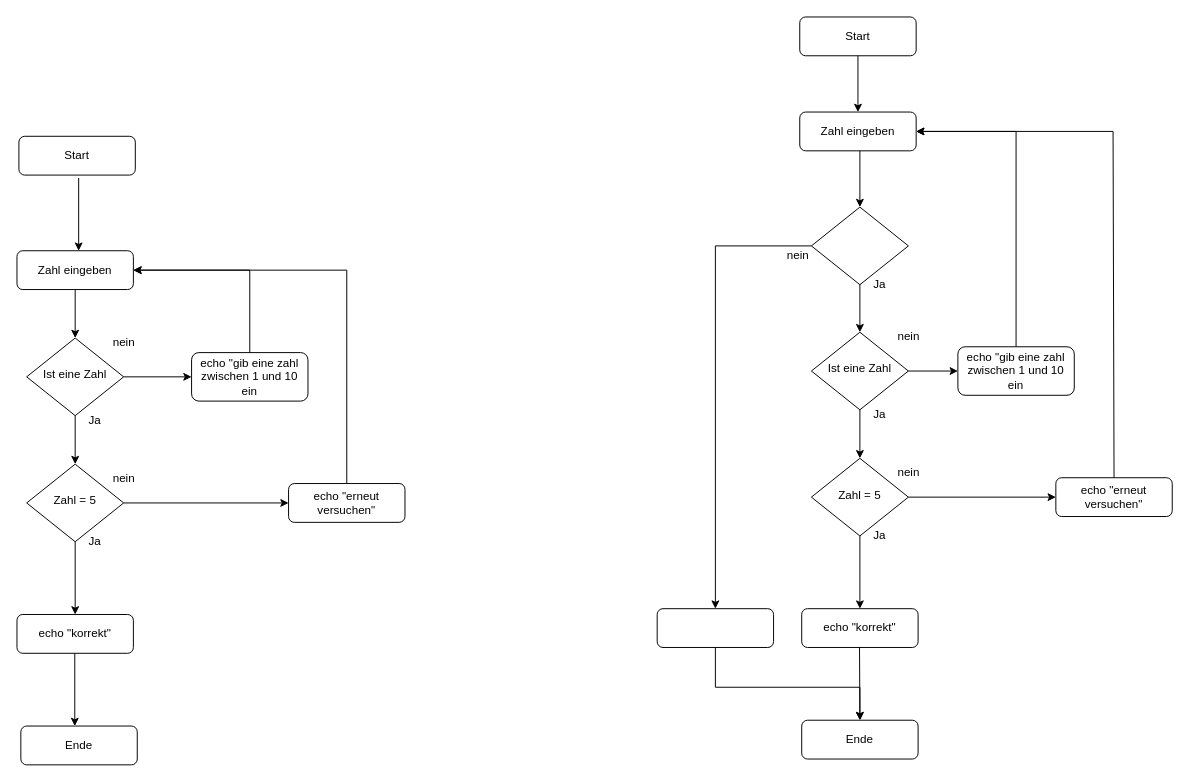
The diagram is 1189 pixels wide and 782 high, and some of its shapes have lost their labels. Here are the shapes that lost their labels. From the top down, the box of each, then its label:
(810, 206, 908, 285): Anzahl Versuche < 3
(656, 608, 774, 647): echo "Alle versuche genutzt"
